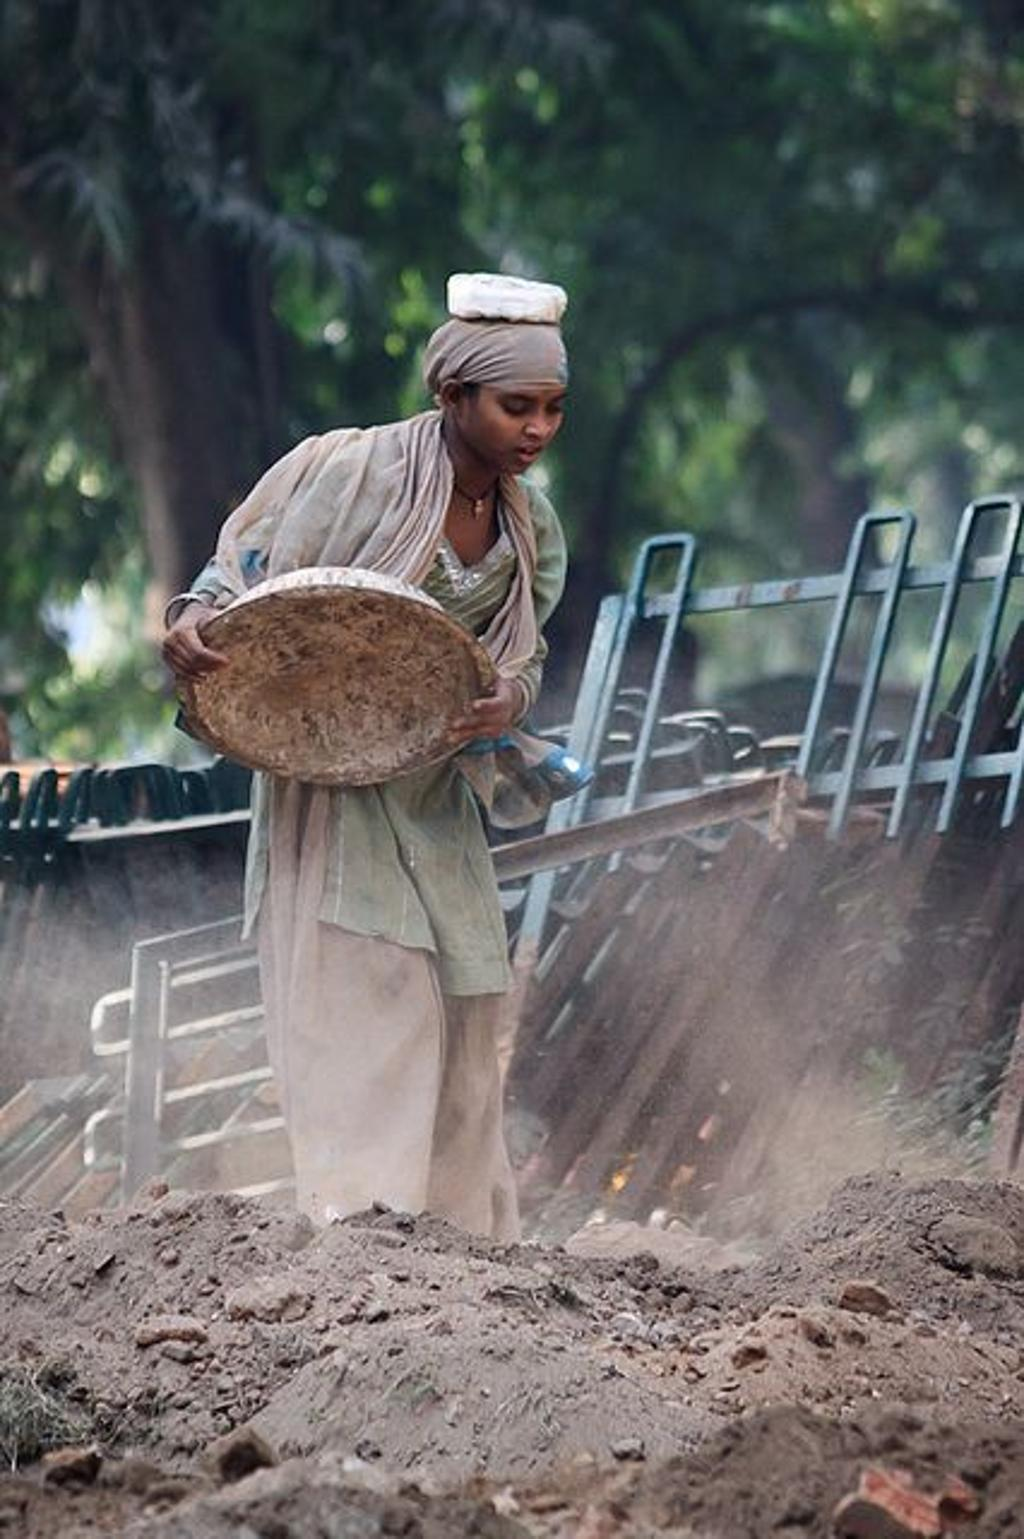face: (466, 334, 562, 472)
